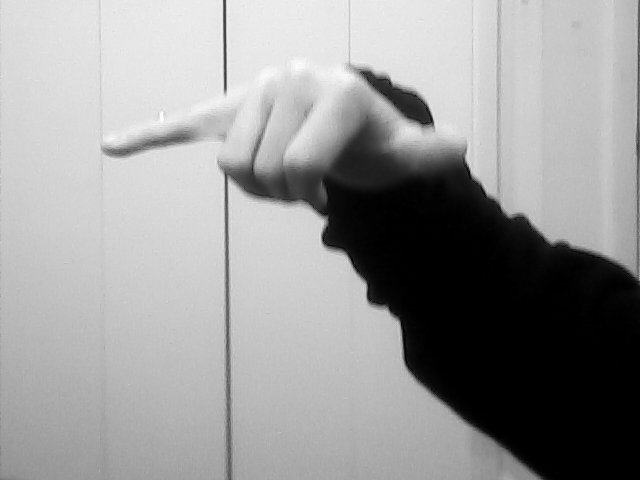aloha: (93, 53, 476, 212)
